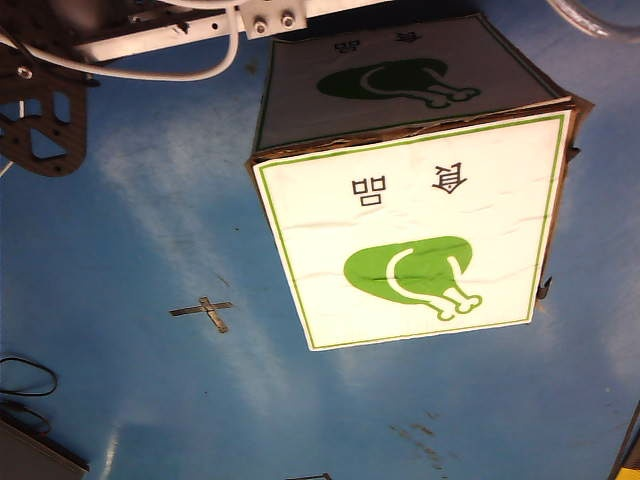Cube_food: (301, 156, 531, 328)
